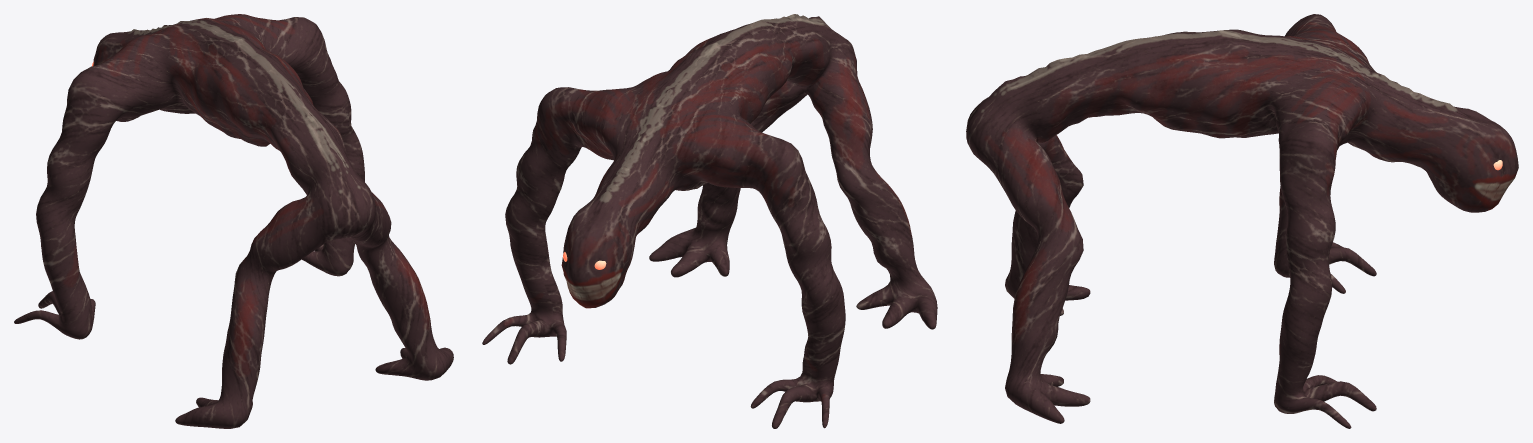
File: scary_monster.glb
3 renders of one model, left to right at view 1: azimuth 30°, elevation 25°; view 2: azimuth 150°, elevation 25°; view 3: azimuth 270°, elevation 25°, orthographic. The views are drawn at different scales.
Visible parts, largest first — view 1: Monster; view 2: Monster; view 3: Monster.
Boxes of the visible parts, box(x1,y1,x2,y2) form: Monster: box(14, 14, 453, 428); Monster: box(482, 14, 937, 428); Monster: box(966, 14, 1518, 428).
Size of the model in its own units: 3.3 by 2.83 by 4.4.
2 materials, 1 textured.
